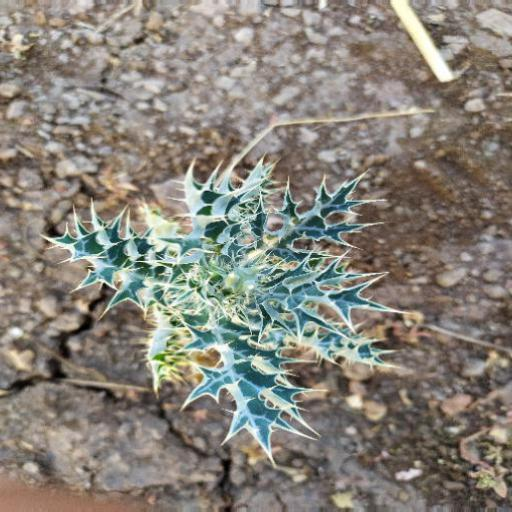weed: (50, 139, 391, 456)
